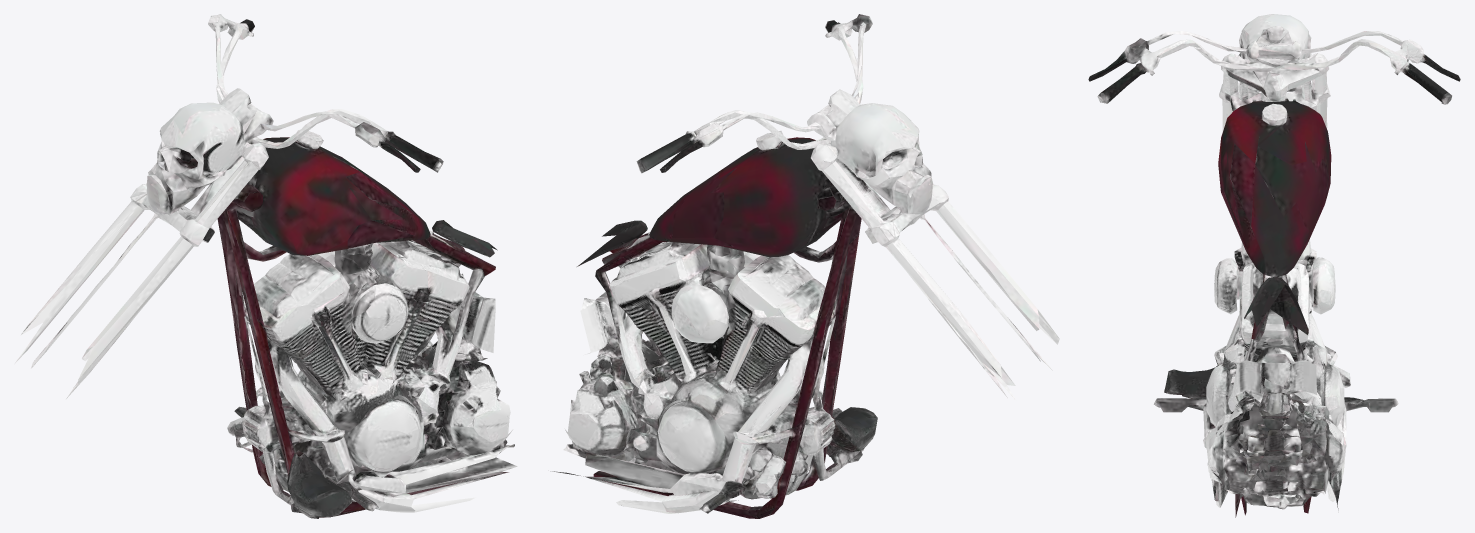
Rendered from reaper-bike.glb.
3 views of the same model, side by side, from view 1: azimuth 30°, elevation 25°; view 2: azimuth 150°, elevation 25°; view 3: azimuth 270°, elevation 25° (orthographic). The views are drawn at different scales.
Parts seen in each view (by area): view 1: Mesh_0; view 2: Mesh_0; view 3: Mesh_0.
Part boxes in pixels (x1,y1,x2,y2): Mesh_0: (15,14,517,518); Mesh_0: (548,14,1059,518); Mesh_0: (1088,14,1460,517).
Size of the model in its own units: 0.8202 by 0.7605 by 0.6377.
Materials: 1 (1 with a texture image).
